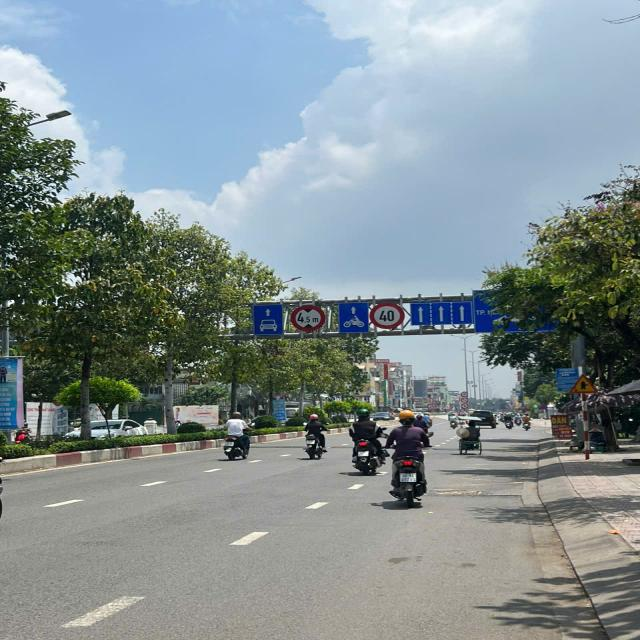car: (65, 413, 154, 447), (468, 406, 501, 431)
motobyte: (381, 408, 437, 508), (347, 407, 389, 475), (218, 409, 261, 463), (298, 410, 331, 462), (503, 412, 517, 432), (522, 412, 534, 433), (447, 413, 460, 430)
